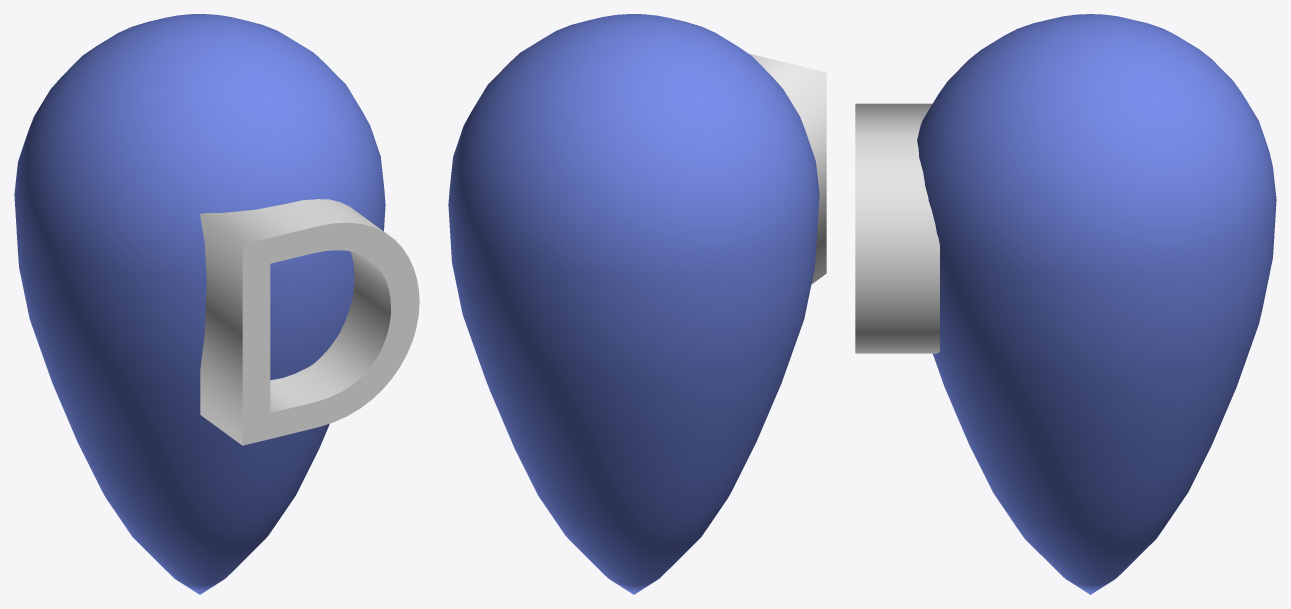
File: dEntrancePin.glb
3 views of the same model, side by side, from view 1: azimuth 30°, elevation 25°; view 2: azimuth 150°, elevation 25°; view 3: azimuth 270°, elevation 25° (orthographic).
Visible parts, largest first — view 1: pin, Text.004; view 2: pin, Text.004; view 3: pin, Text.004.
Part boxes in pixels (<box>): pin: <box>14,14,385,594</box>; Text.004: <box>200,199,419,445</box>; pin: <box>448,14,819,594</box>; Text.004: <box>749,53,826,284</box>; pin: <box>917,14,1276,594</box>; Text.004: <box>855,103,939,353</box>.
Size of the model in its own units: 0.2435 by 0.4072 by 0.2757.
